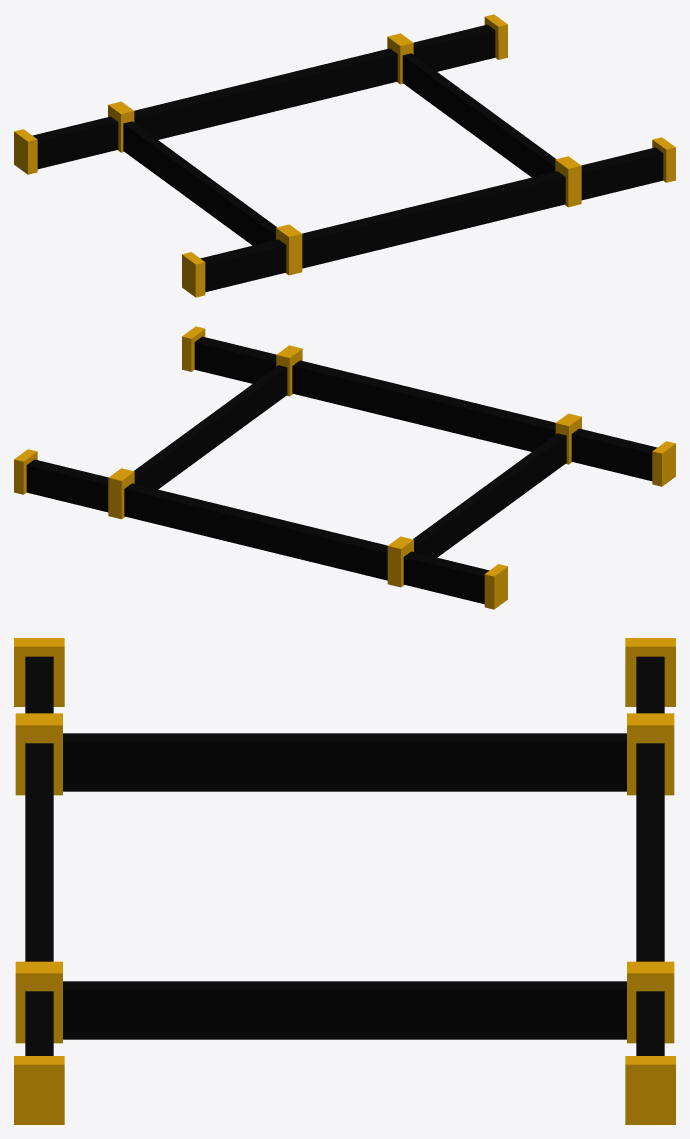
The picture shows the model from 3 angles, top to bottom: view 1: azimuth 30°, elevation 25°; view 2: azimuth 150°, elevation 25°; view 3: azimuth 270°, elevation 25°; orthographic projection. The views are drawn at different scales.
Visible parts, largest first — view 1: polySurface153; view 2: polySurface153; view 3: polySurface153.
Part boxes in pixels (x1,y1,x2,y2): polySurface153: (14, 14, 675, 297); polySurface153: (14, 326, 675, 609); polySurface153: (14, 638, 675, 1124).
Size of the model in its own units: 206 by 15.76 by 135.
